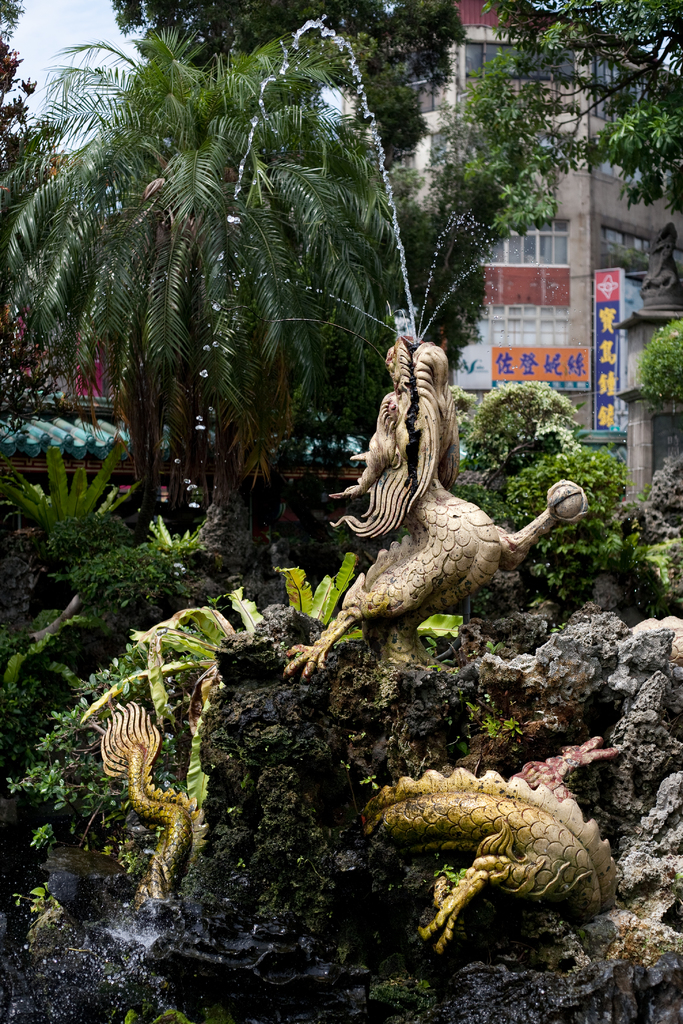Tree: (0, 29, 403, 562), (102, 0, 493, 380), (480, 0, 682, 215), (0, 0, 59, 478)
